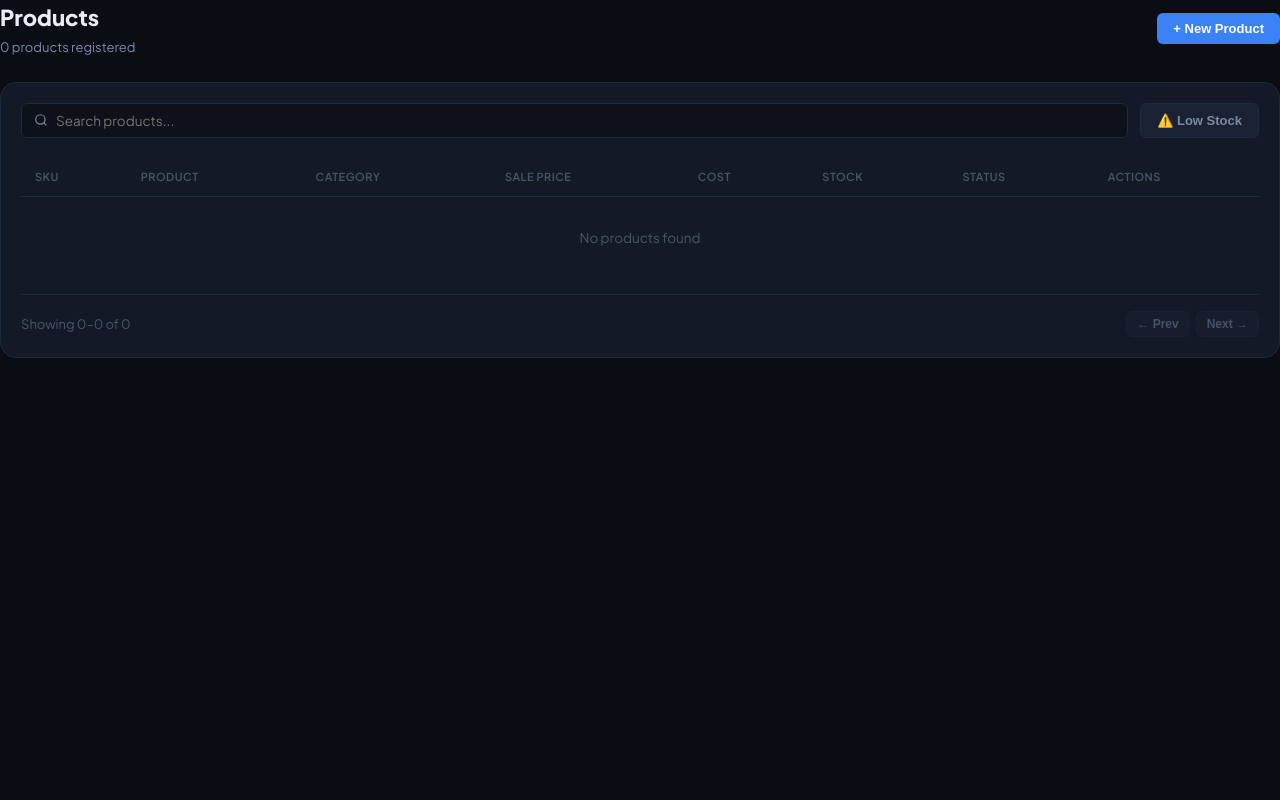
Test: ProductsPage › opens modal on New Product click
This screenshot has width=1280, height=800.
Click the button "+ New Product" at (1219, 29), box [1157,14,1279,44]
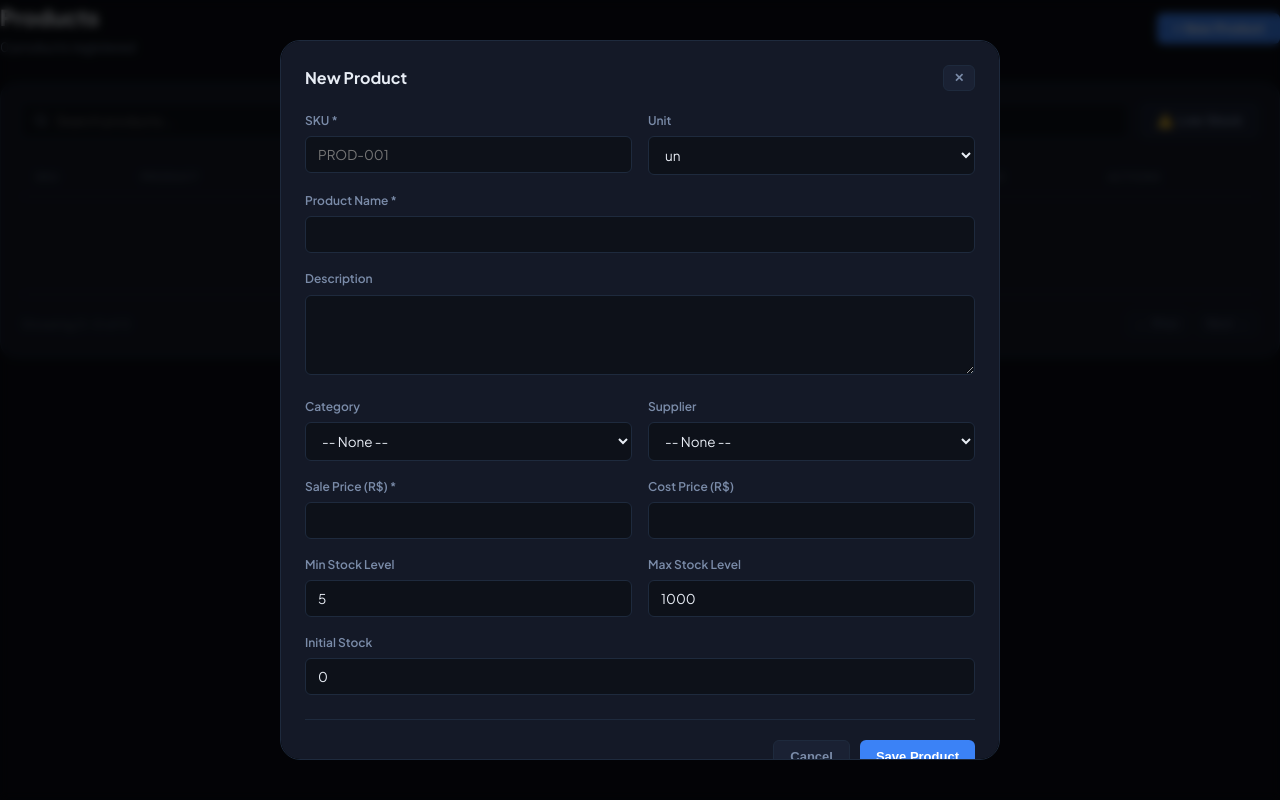
Check: the text "Product Name *" is shown, box [305,193,397,208]
